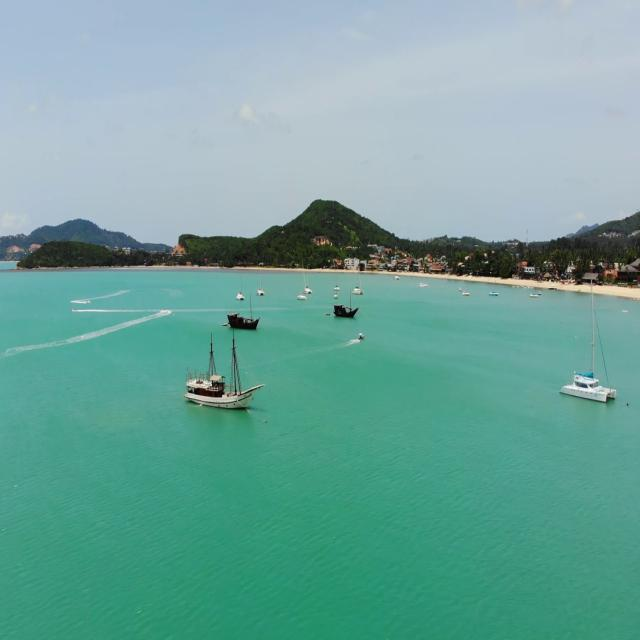fishing boat: (167, 317, 260, 416), (554, 299, 629, 416), (210, 292, 268, 324), (327, 290, 362, 325)
